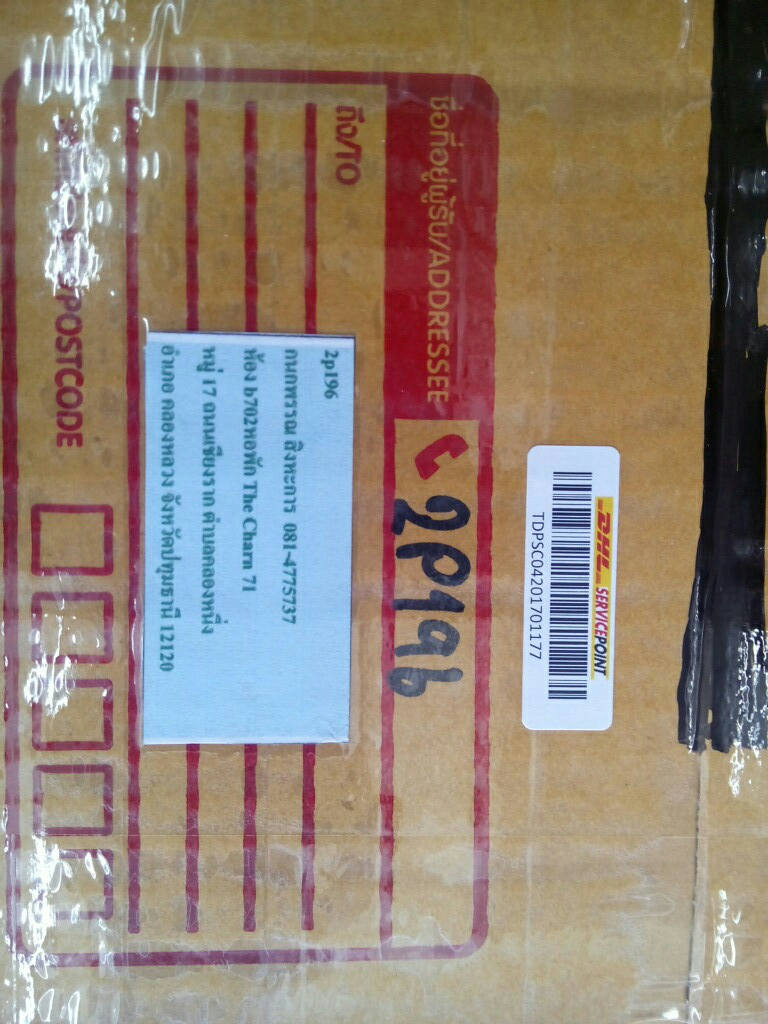ba: (517, 432, 623, 756)
txt: (150, 340, 313, 738)
